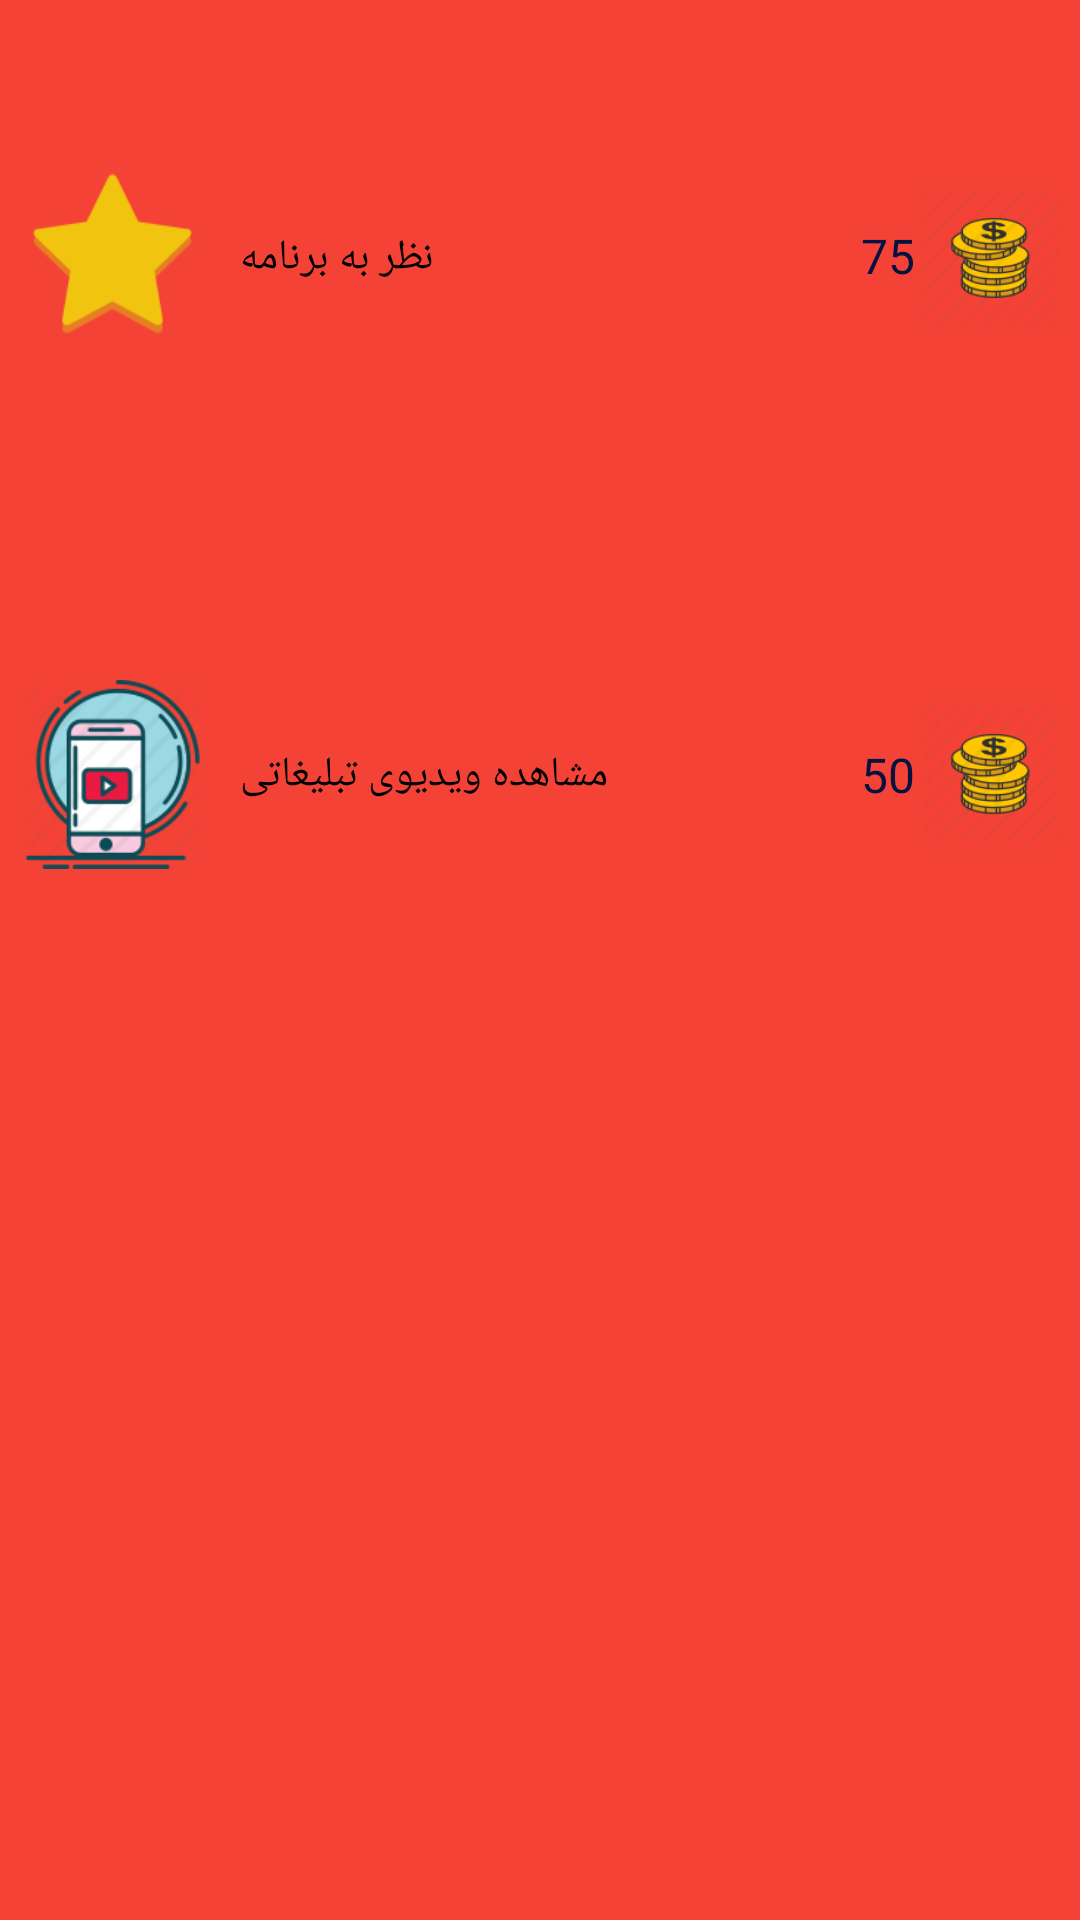

Icons on this 1080*1920 Android screen, each with its box as (x1, y1, x2, y2):
coin: (951, 217, 1030, 298), (951, 733, 1030, 814)
seevidio: (25, 680, 200, 869)
starmessage: (33, 174, 192, 333)
